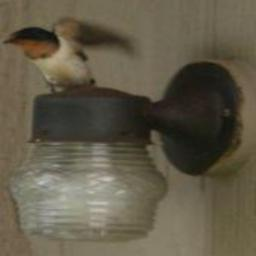Swallow: (3, 15, 140, 92)
